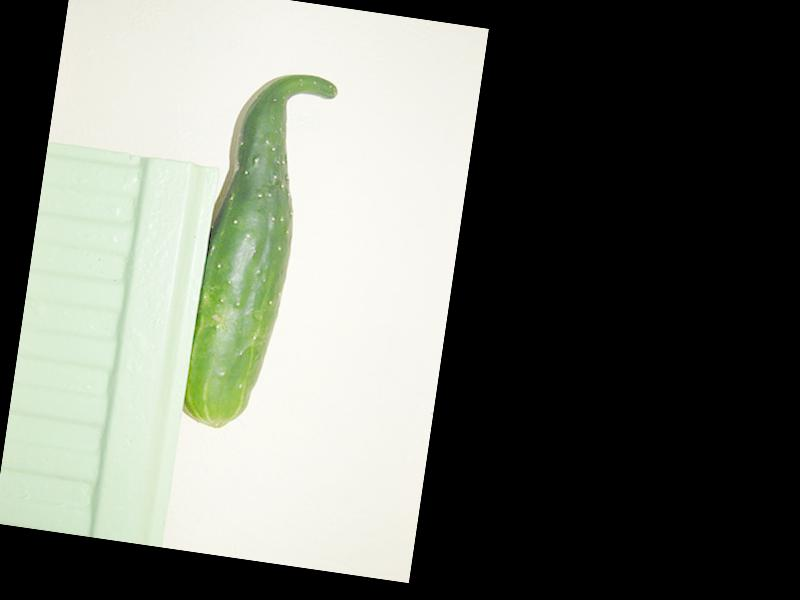Cucumber: (180, 62, 338, 437)
